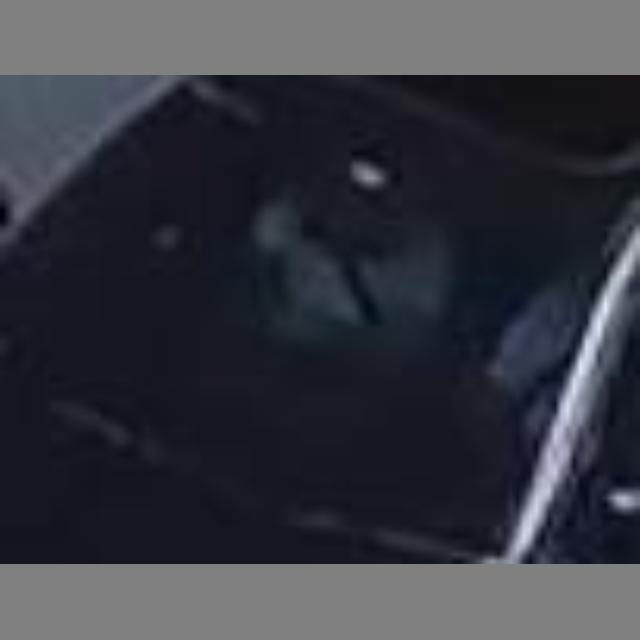pakai: (232, 144, 439, 408), (483, 200, 609, 495)
